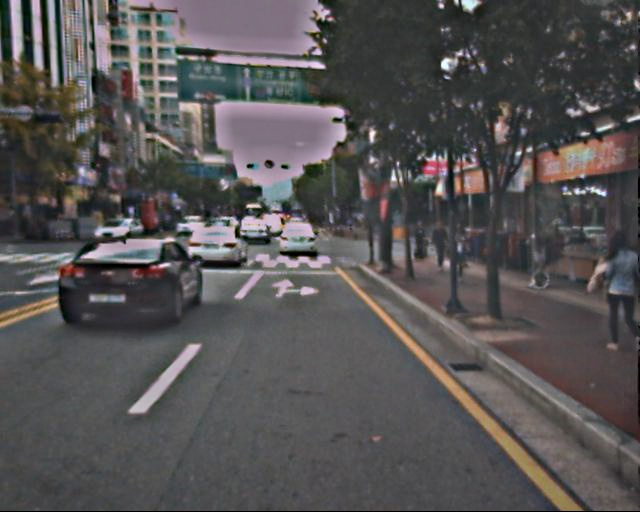person: (591, 231, 640, 350), (447, 220, 472, 279), (430, 219, 451, 271), (414, 222, 431, 263)
